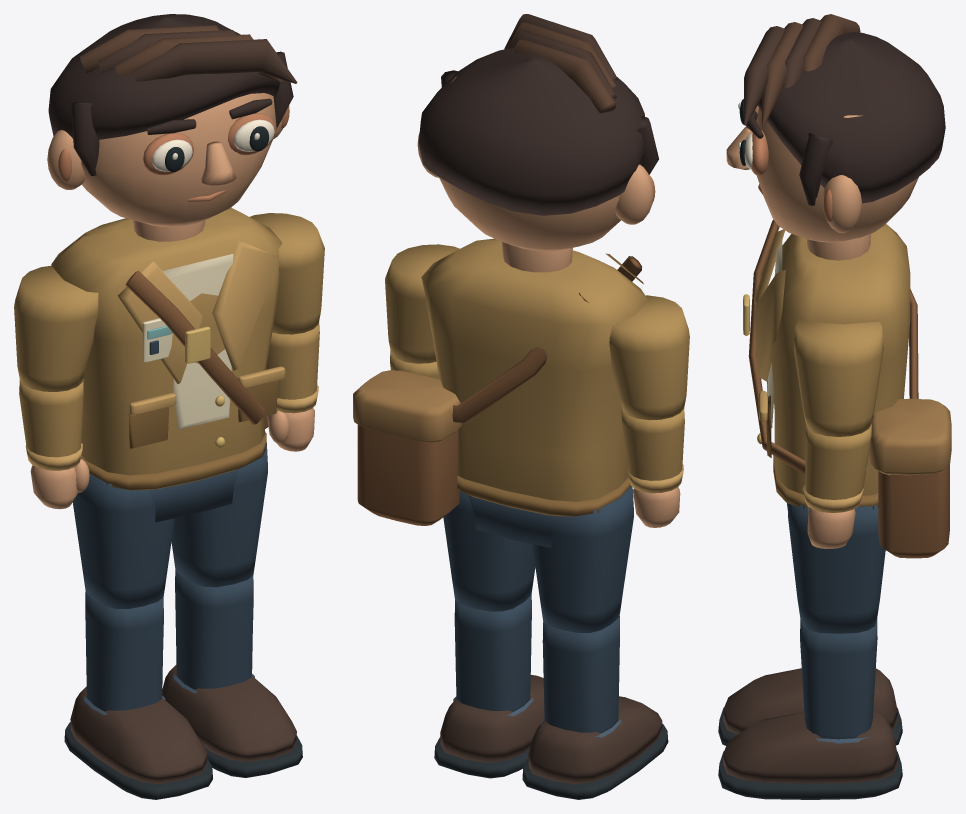
File: student_v2.glb
3 renders of one model, left to right at view 1: azimuth 30°, elevation 25°; view 2: azimuth 150°, elevation 25°; view 3: azimuth 270°, elevation 25°, orthographic.
Visible parts, largest first — view 1: Jacket, Face, HairCap, LeftThigh, LeftSleeve, LeftShoe, RightShin, LeftShin, RightThigh, RightShoe, RightSleeve, RightLapel (+33 smaller); view 2: Jacket, HairCap, LeftThigh, Satchel, LeftSleeve, RightShin, LeftShin, RightThigh, LeftShoe, SatchelFlap, Face, RightShoe (+17 smaller); view 3: HairCap, Jacket, RightShoe, RightThigh, RightSleeve, RightShin, Face, Satchel, SatchelFlap, LeftShoe, RightForearm, RightSole (+18 smaller).
Part boxes in pixels (x1=…): Jacket: x1=51, y1=207, x2=281, y2=475; Face: x1=81, y1=93, x2=276, y2=227; HairCap: x1=48, y1=14, x2=279, y2=139; LeftThigh: x1=72, y1=474, x2=174, y2=608; LeftSleeve: x1=14, y1=265, x2=98, y2=391; LeftShoe: x1=70, y1=686, x2=206, y2=783; RightShin: x1=175, y1=570, x2=253, y2=689; LeftShin: x1=85, y1=592, x2=163, y2=711; RightThigh: x1=171, y1=443, x2=267, y2=587; RightShoe: x1=162, y1=664, x2=296, y2=762; RightSleeve: x1=250, y1=213, x2=324, y2=334; RightLapel: x1=212, y1=240, x2=277, y2=370; Jacket: x1=421, y1=238, x2=647, y2=501; HairCap: x1=418, y1=48, x2=644, y2=215; LeftThigh: x1=532, y1=486, x2=633, y2=632; Satchel: x1=357, y1=425, x2=459, y2=525; LeftSleeve: x1=609, y1=295, x2=689, y2=420; RightShin: x1=454, y1=595, x2=531, y2=711; LeftShin: x1=542, y1=616, x2=619, y2=733; RightThigh: x1=443, y1=491, x2=535, y2=611; LeftShoe: x1=528, y1=696, x2=662, y2=784; SatchelFlap: x1=353, y1=370, x2=461, y2=442; Face: x1=439, y1=76, x2=620, y2=251; RightShoe: x1=440, y1=675, x2=544, y2=762; HairCap: x1=757, y1=32, x2=945, y2=203; Jacket: x1=771, y1=224, x2=910, y2=495; RightShoe: x1=722, y1=710, x2=898, y2=783; RightThigh: x1=788, y1=504, x2=885, y2=633; RightSleeve: x1=793, y1=318, x2=883, y2=436; RightShin: x1=800, y1=619, x2=877, y2=739; Face: x1=756, y1=108, x2=918, y2=242; Satchel: x1=878, y1=464, x2=949, y2=558; SatchelFlap: x1=869, y1=398, x2=951, y2=475; LeftShoe: x1=723, y1=668, x2=898, y2=734; RightForearm: x1=805, y1=424, x2=871, y2=499; RightSole: x1=718, y1=751, x2=902, y2=799.
Size of the model in its own units: 0.914 by 2.12 by 0.62.
